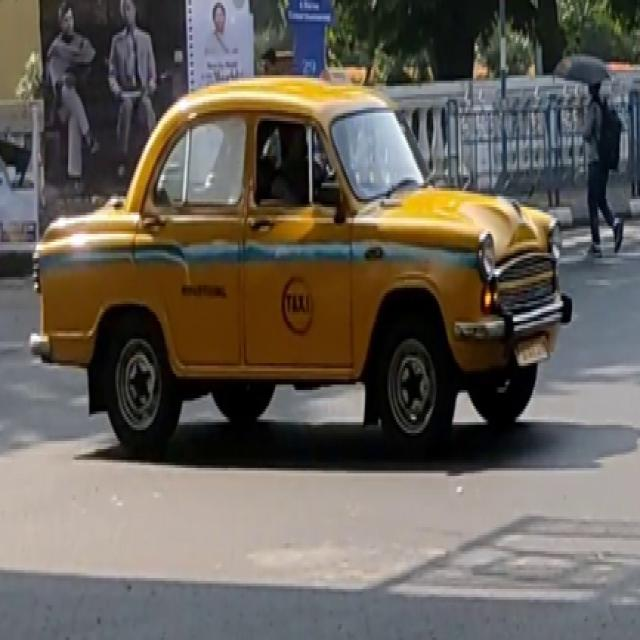ambasador_taxi: (37, 70, 565, 458)
